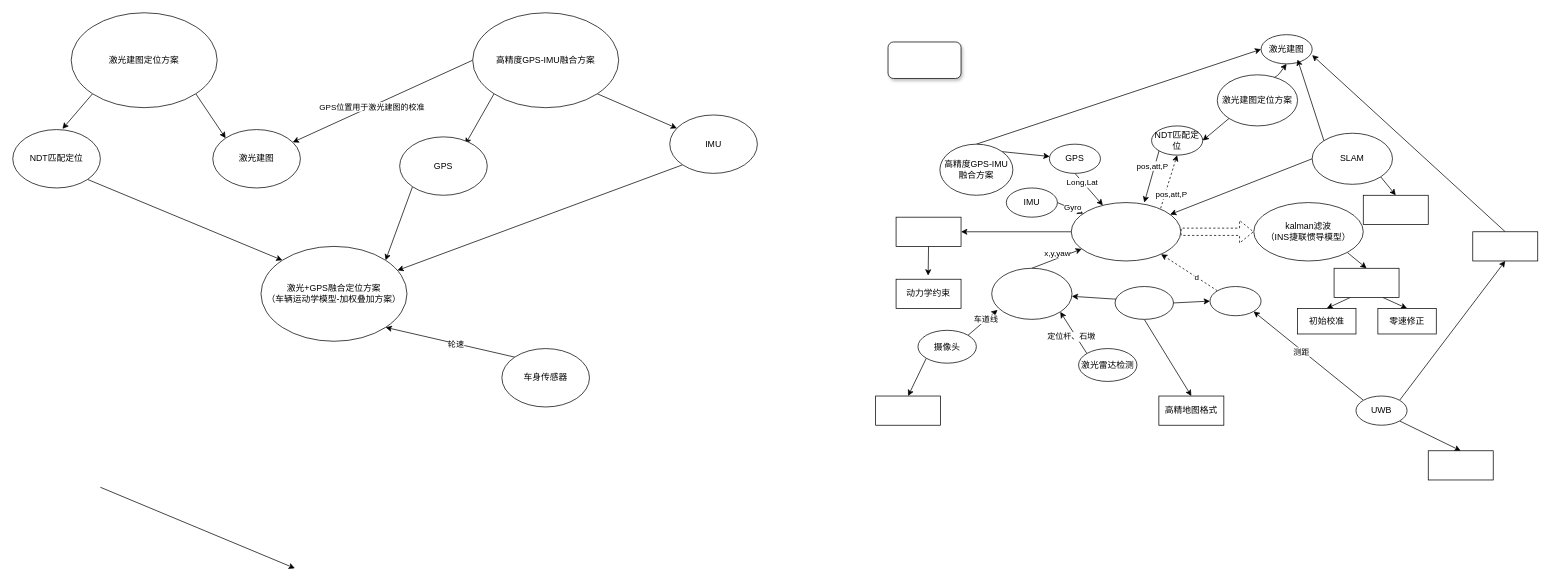
This 1551x587 diagram has some shape labels left out. The shapes that lost their labels are listed below. From the top down, each one's centre as x and y in pixels, then its label:
At (x=924, y=61): "贝叶斯估计理论".
At (x=1395, y=209): "EKF/图优化".
At (x=928, y=231): "联邦滤波/自适应滤波".
At (x=1126, y=231): "kalman滤波 （主模型车辆运动学）".
At (x=1505, y=246): "后融合技术".
At (x=1031, y=293): "MapMatching".
At (x=1143, y=302): "高精地图".
At (x=1235, y=301): "EKF-SLAM融合".
At (x=1366, y=282): "IMU模型-捷联惯导算法".
At (x=908, y=410): "车道线质量判断".
At (x=1460, y=465): "TDOA/质量判断".
